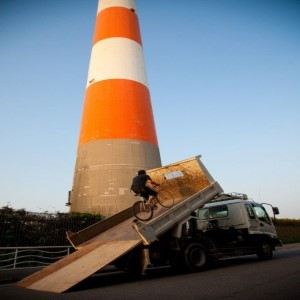traffic cone: (68, 1, 166, 221)
